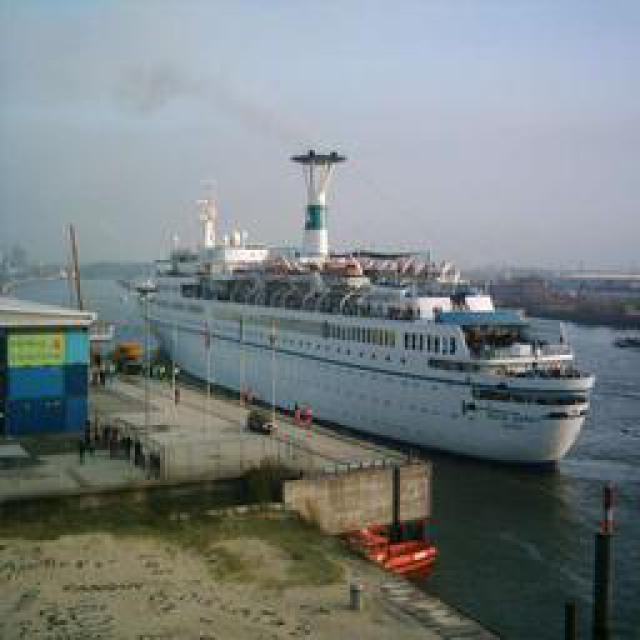Ship: (125, 191, 605, 475)
